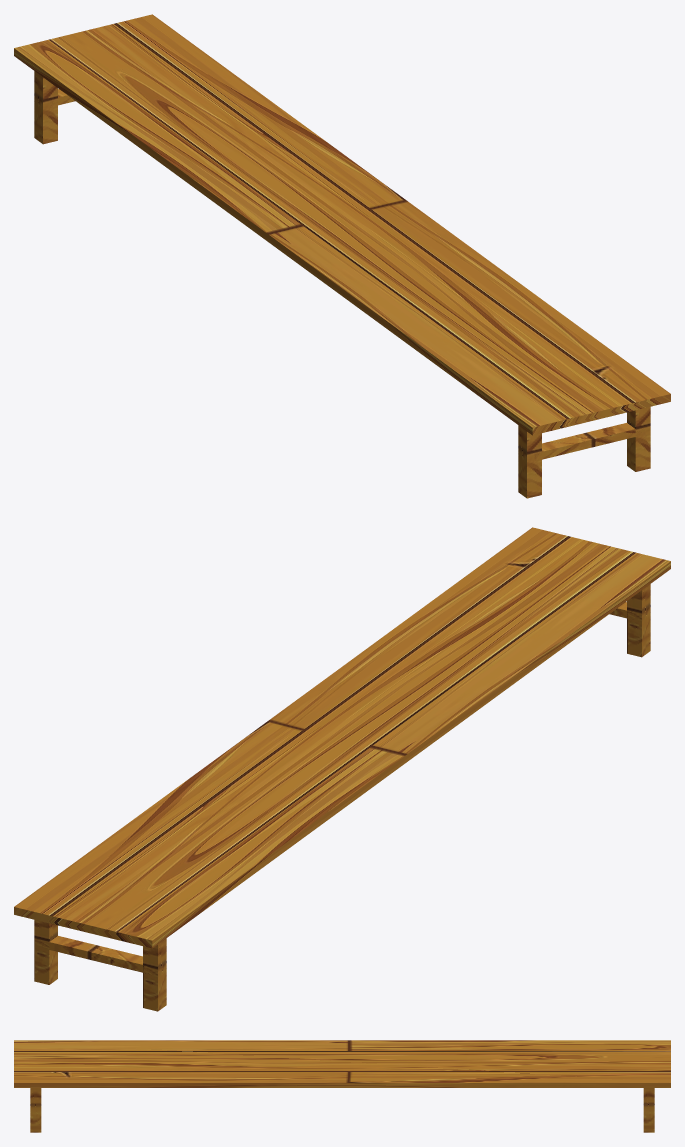
File: Sheif.fbx
3 renders of one model, top to bottom at view 1: azimuth 30°, elevation 25°; view 2: azimuth 150°, elevation 25°; view 3: azimuth 270°, elevation 25°, orthographic. The views are drawn at different scales.
Visible parts, largest first — view 1: Sheif; view 2: Sheif; view 3: Sheif.
Boxes of the visible parts, x1,y1,x2,y2 form: Sheif: (14, 14, 670, 498); Sheif: (14, 527, 670, 1011); Sheif: (14, 1040, 670, 1132).
Bounding box in the file's own units: 185 × 105 × 1200.
